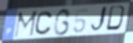5: (73, 8, 89, 34)
C: (34, 11, 54, 36)
D: (105, 4, 128, 32)
G: (52, 8, 72, 37)
J: (89, 5, 109, 35)
M: (13, 10, 38, 40)
